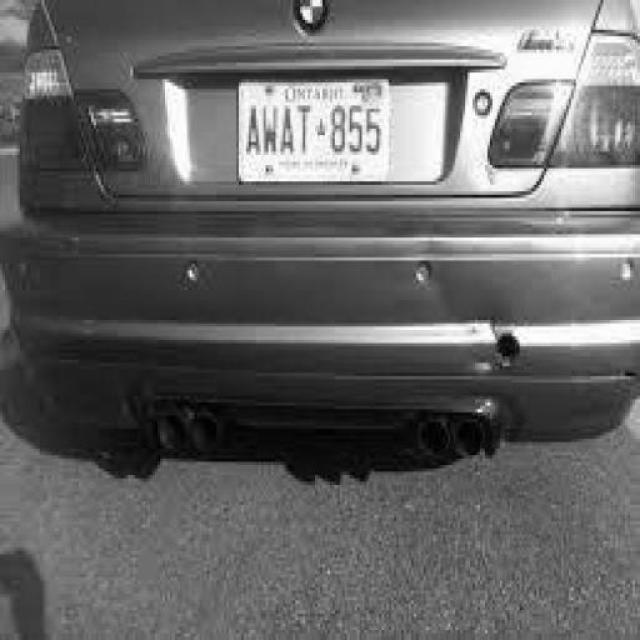tear: (483, 310, 535, 369)
